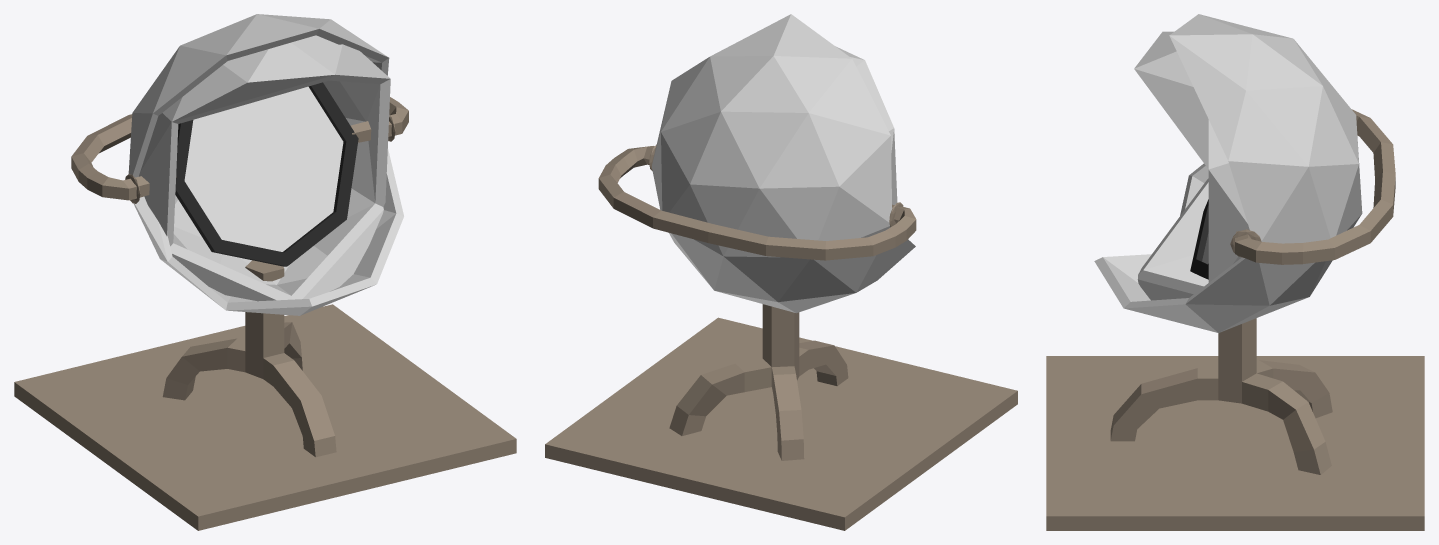
File: projecteur_lumiere.fbx
The picture shows the model from 3 angles, left to right: view 1: azimuth 30°, elevation 25°; view 2: azimuth 150°, elevation 25°; view 3: azimuth 270°, elevation 25°; orthographic projection. The views are drawn at different scales.
Parts seen in each view (by area): view 1: Cube, Icosphere, Cylinder.002, Icosphere.001, Cylinder, Cylinder.001; view 2: Icosphere.001, Cube, Cylinder, Cylinder.001, Icosphere; view 3: Cube, Icosphere.001, Cylinder, Icosphere, Cylinder.001, Cylinder.002.
Boxes of the visible parts, x1,y1,x2,y2 form: Cube: (14, 304, 516, 530); Icosphere: (139, 35, 390, 301); Cylinder.002: (175, 82, 358, 266); Icosphere.001: (128, 14, 403, 315); Cylinder: (162, 260, 336, 457); Cylinder.001: (71, 97, 408, 200); Icosphere.001: (652, 14, 915, 313); Cube: (545, 317, 1017, 530); Cylinder: (669, 304, 848, 460); Cylinder.001: (598, 146, 916, 260); Icosphere: (835, 46, 897, 204); Cube: (1046, 356, 1424, 530); Icosphere.001: (1094, 14, 1362, 332); Cylinder: (1110, 318, 1332, 474); Icosphere: (1134, 31, 1249, 300); Cylinder.001: (1235, 109, 1395, 264); Cylinder.002: (1190, 199, 1208, 279).
Size of the model in its own units: 200 by 252 by 200.
